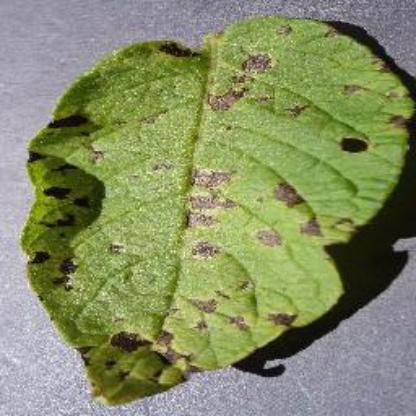Early-Blight: (21, 14, 415, 404)
